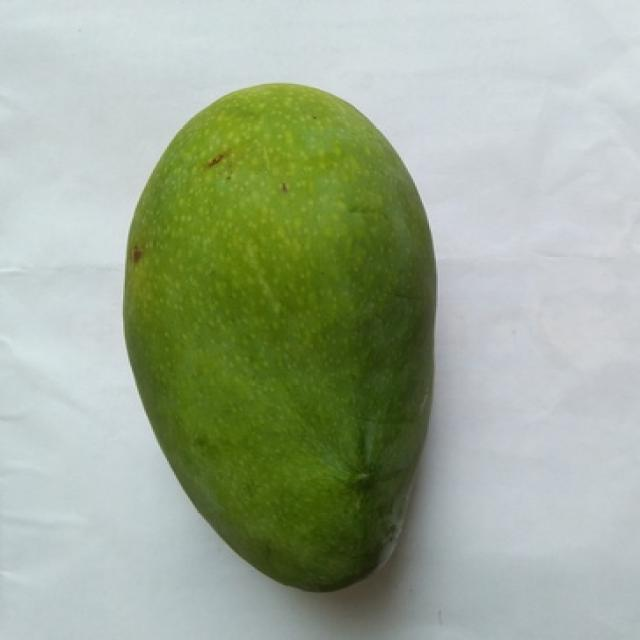Mango: (123, 84, 431, 590)
